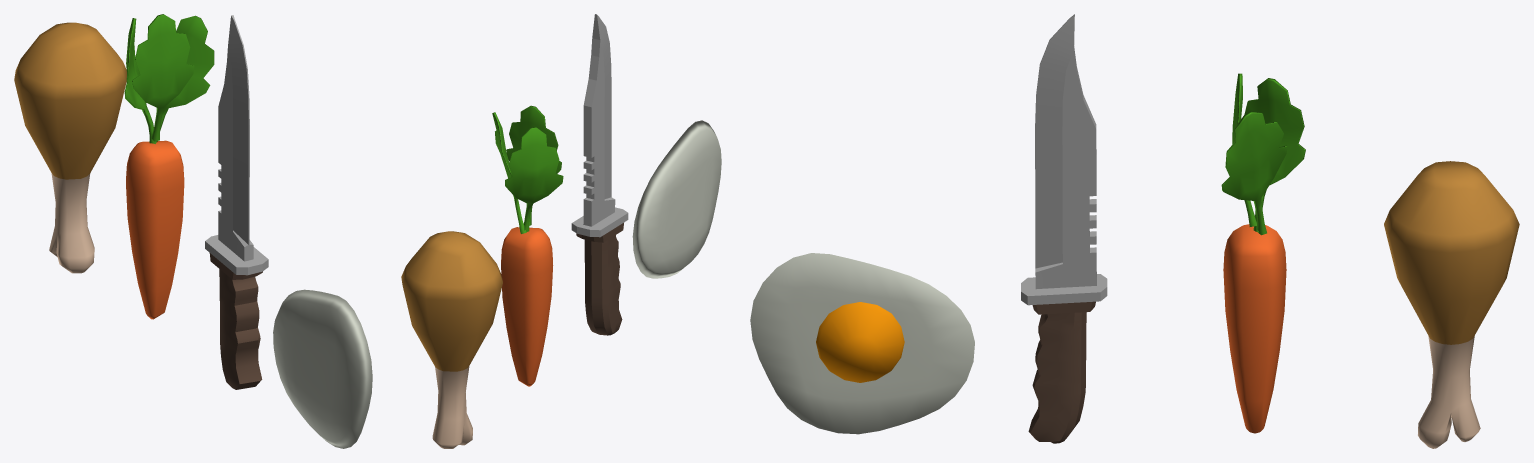
Rendered from Obstacle-Set-3.fbx.
3 views of the same model, side by side, from view 1: azimuth 30°, elevation 25°; view 2: azimuth 150°, elevation 25°; view 3: azimuth 270°, elevation 25° (orthographic). The views are drawn at different scales.
Parts seen in each view (by area): view 1: chickenDrum, carrot, knife, egg; view 2: chickenDrum, carrot, egg, knife; view 3: egg, knife, chickenDrum, carrot.
Boxes of the visible parts, left/top/right/bottom form: chickenDrum: left=14, top=22, right=126, bottom=273; carrot: left=124, top=14, right=214, bottom=319; knife: left=205, top=15, right=268, bottom=389; egg: left=273, top=289, right=372, bottom=448; chickenDrum: left=401, top=231, right=502, bottom=448; carrot: left=492, top=105, right=563, bottom=386; egg: left=632, top=120, right=721, bottom=278; knife: left=571, top=14, right=628, bottom=335; egg: left=750, top=253, right=974, bottom=434; knife: left=1021, top=14, right=1107, bottom=443; chickenDrum: left=1384, top=161, right=1519, bottom=448; carrot: left=1221, top=73, right=1305, bottom=433.
Size of the model in its own units: 1.47 by 5.14 by 8.3.
